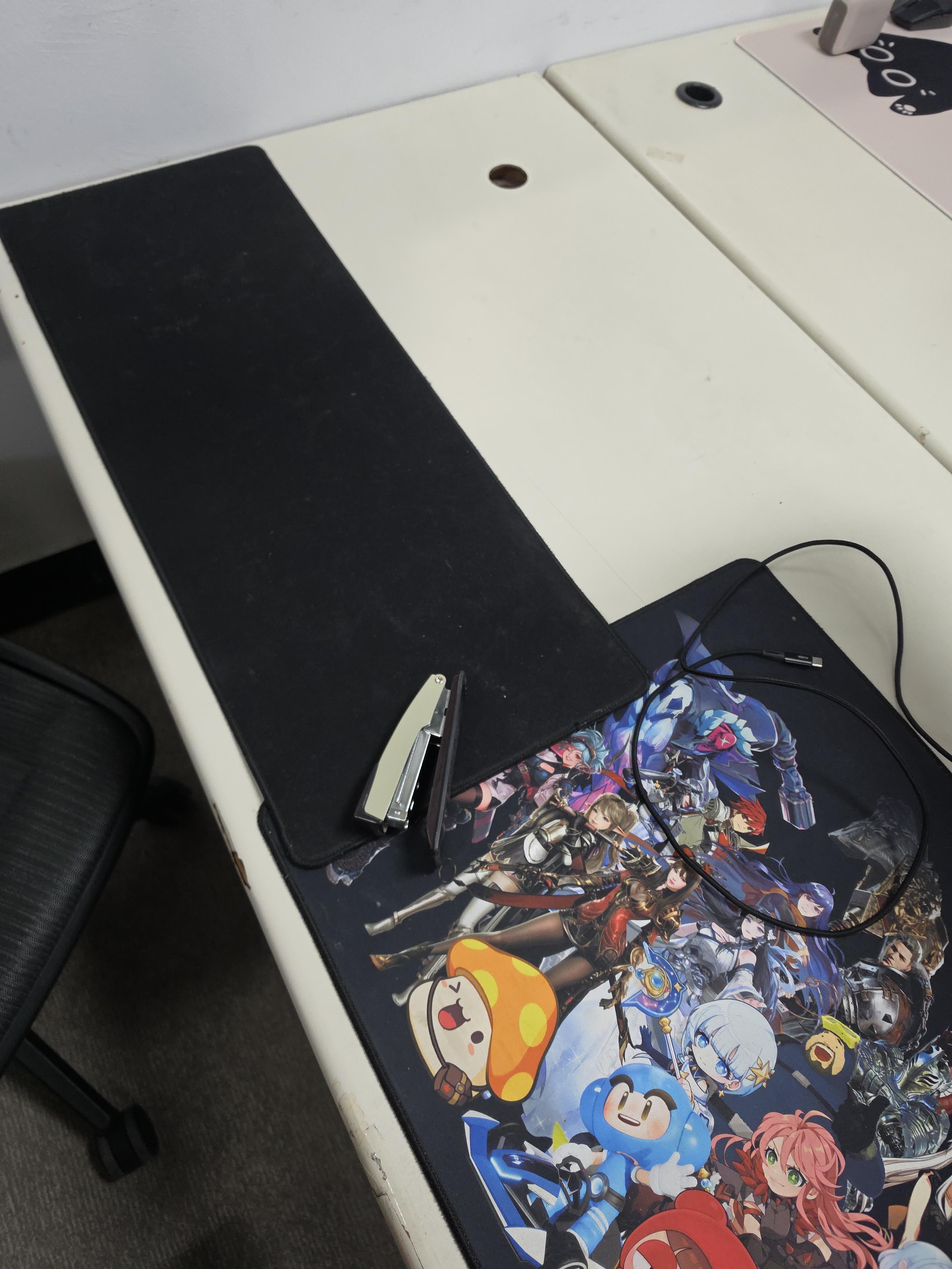stapler: (354, 670, 466, 878)
